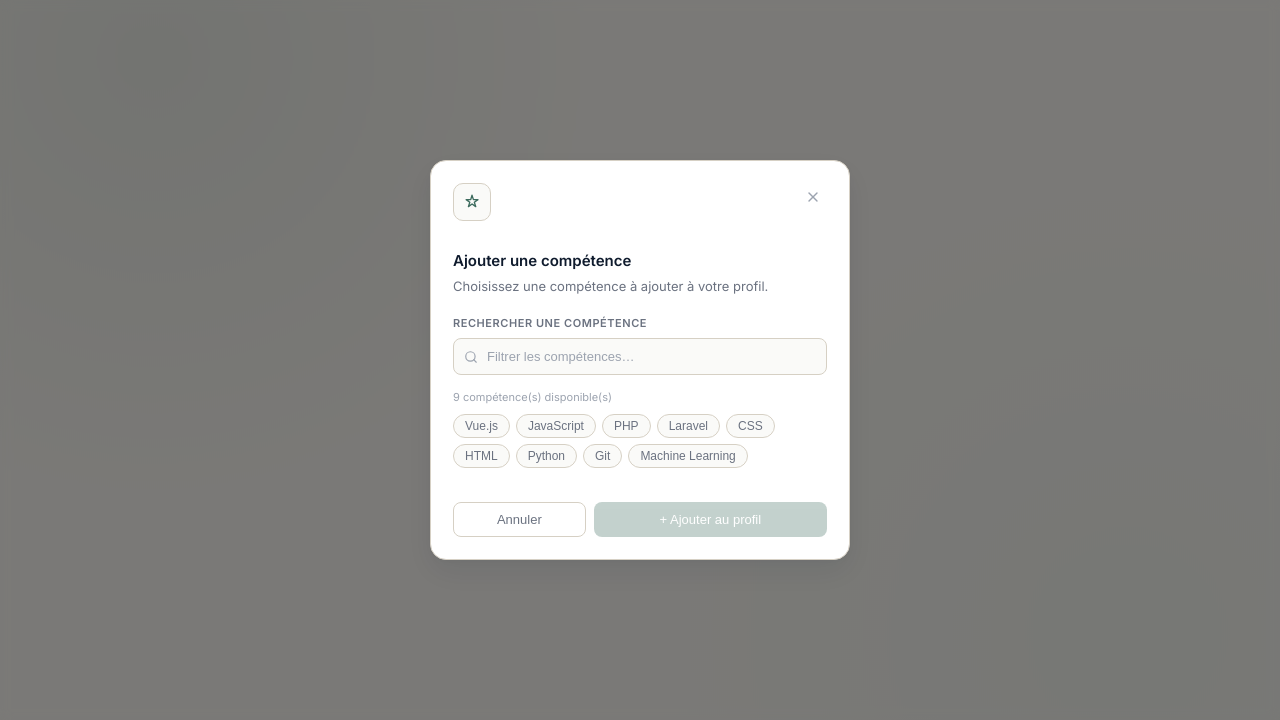
Scenario: SkillModal.vue › Tags de suggestion › filtre les tags selon la recherche
Type "python" into the field with class "skill-input" at (640, 357), box left=453, top=338, right=827, bottom=375
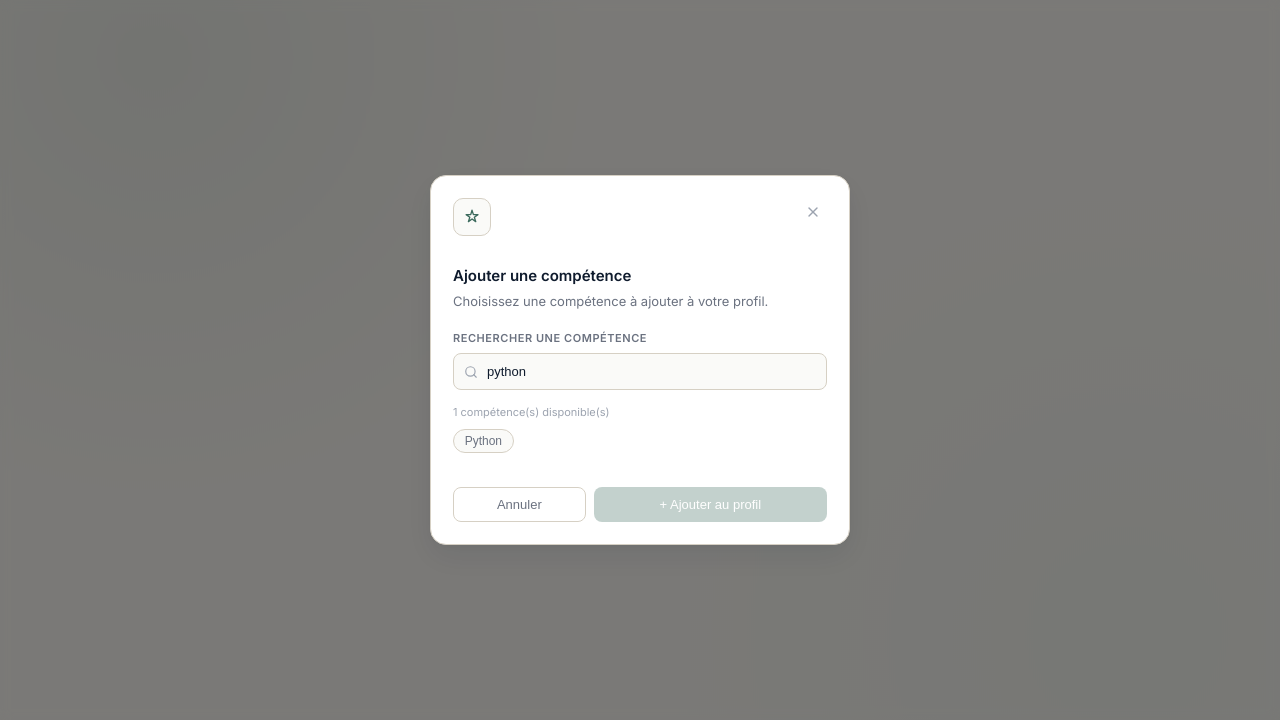
expect the button with class "skill-tag-btn" reads "Python": met, box left=453, top=429, right=514, bottom=453
expect the number of buttons with class "skill-tag-btn" is 1: met, box left=453, top=429, right=514, bottom=453
